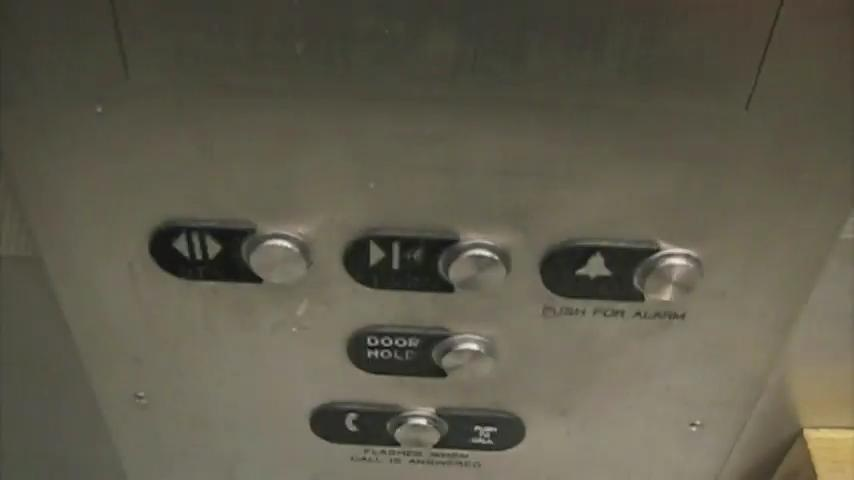alarm: (539, 237, 706, 306)
call: (308, 399, 532, 456)
close: (340, 226, 514, 297)
open: (147, 217, 321, 292)
text: (346, 322, 508, 384)
